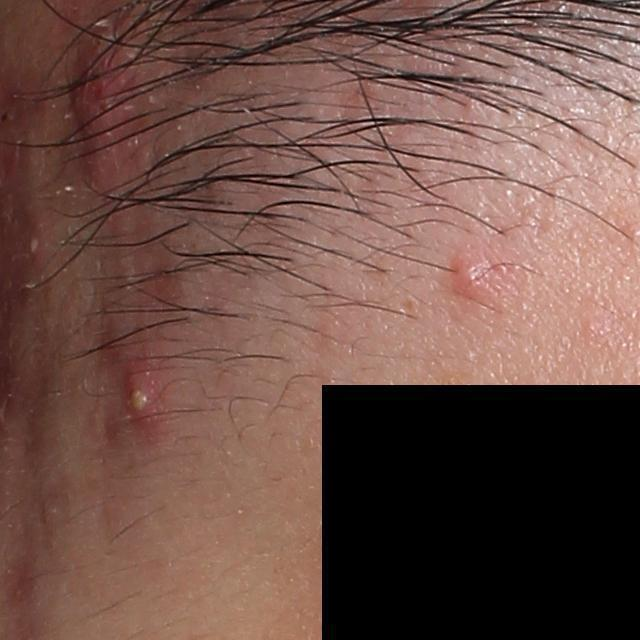nodule: (69, 10, 157, 184)
papule: (447, 253, 492, 294)
pustule: (119, 381, 154, 423)
